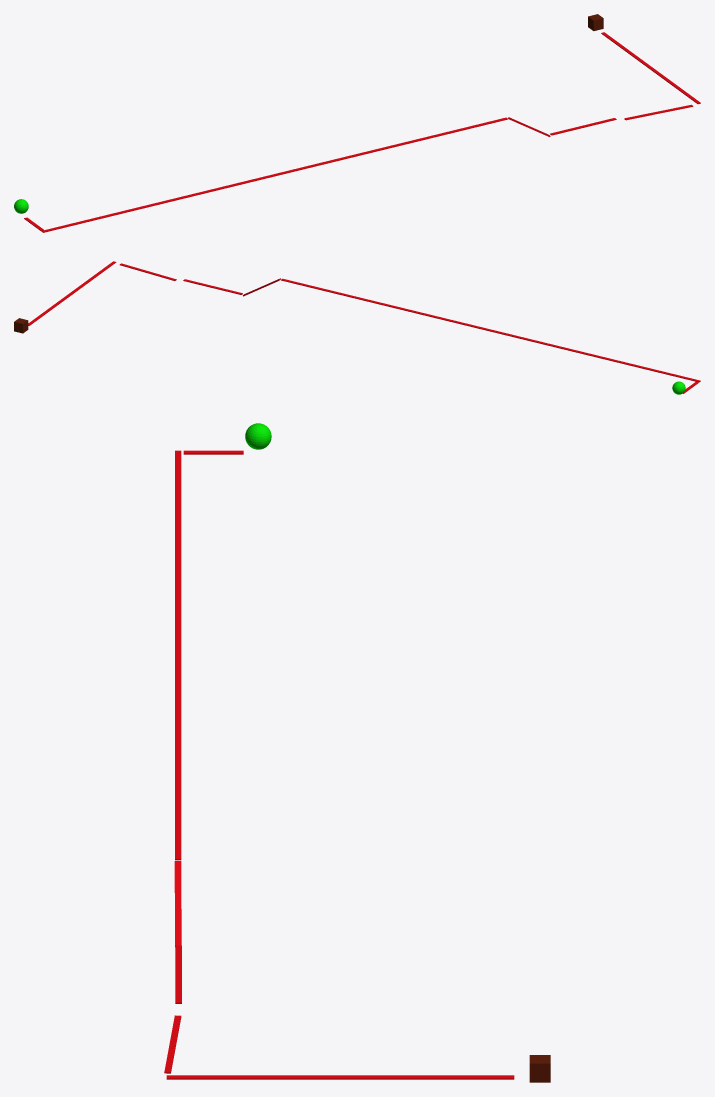
Rendered from BtoA.glb.
The picture shows the model from 3 angles, top to bottom: view 1: azimuth 30°, elevation 25°; view 2: azimuth 150°, elevation 25°; view 3: azimuth 270°, elevation 25°; orthographic projection. The views are drawn at different scales.
Visible parts, largest first — view 1: BtoA; view 2: BtoA; view 3: BtoA.
Part boxes in pixels (<box>): BtoA: <box>41,14,700,232</box>; BtoA: <box>14,261,700,382</box>; BtoA: <box>164,450,550,1082</box>.
Size of the model in its own units: 2.43 by 0.1586 by 0.679.
